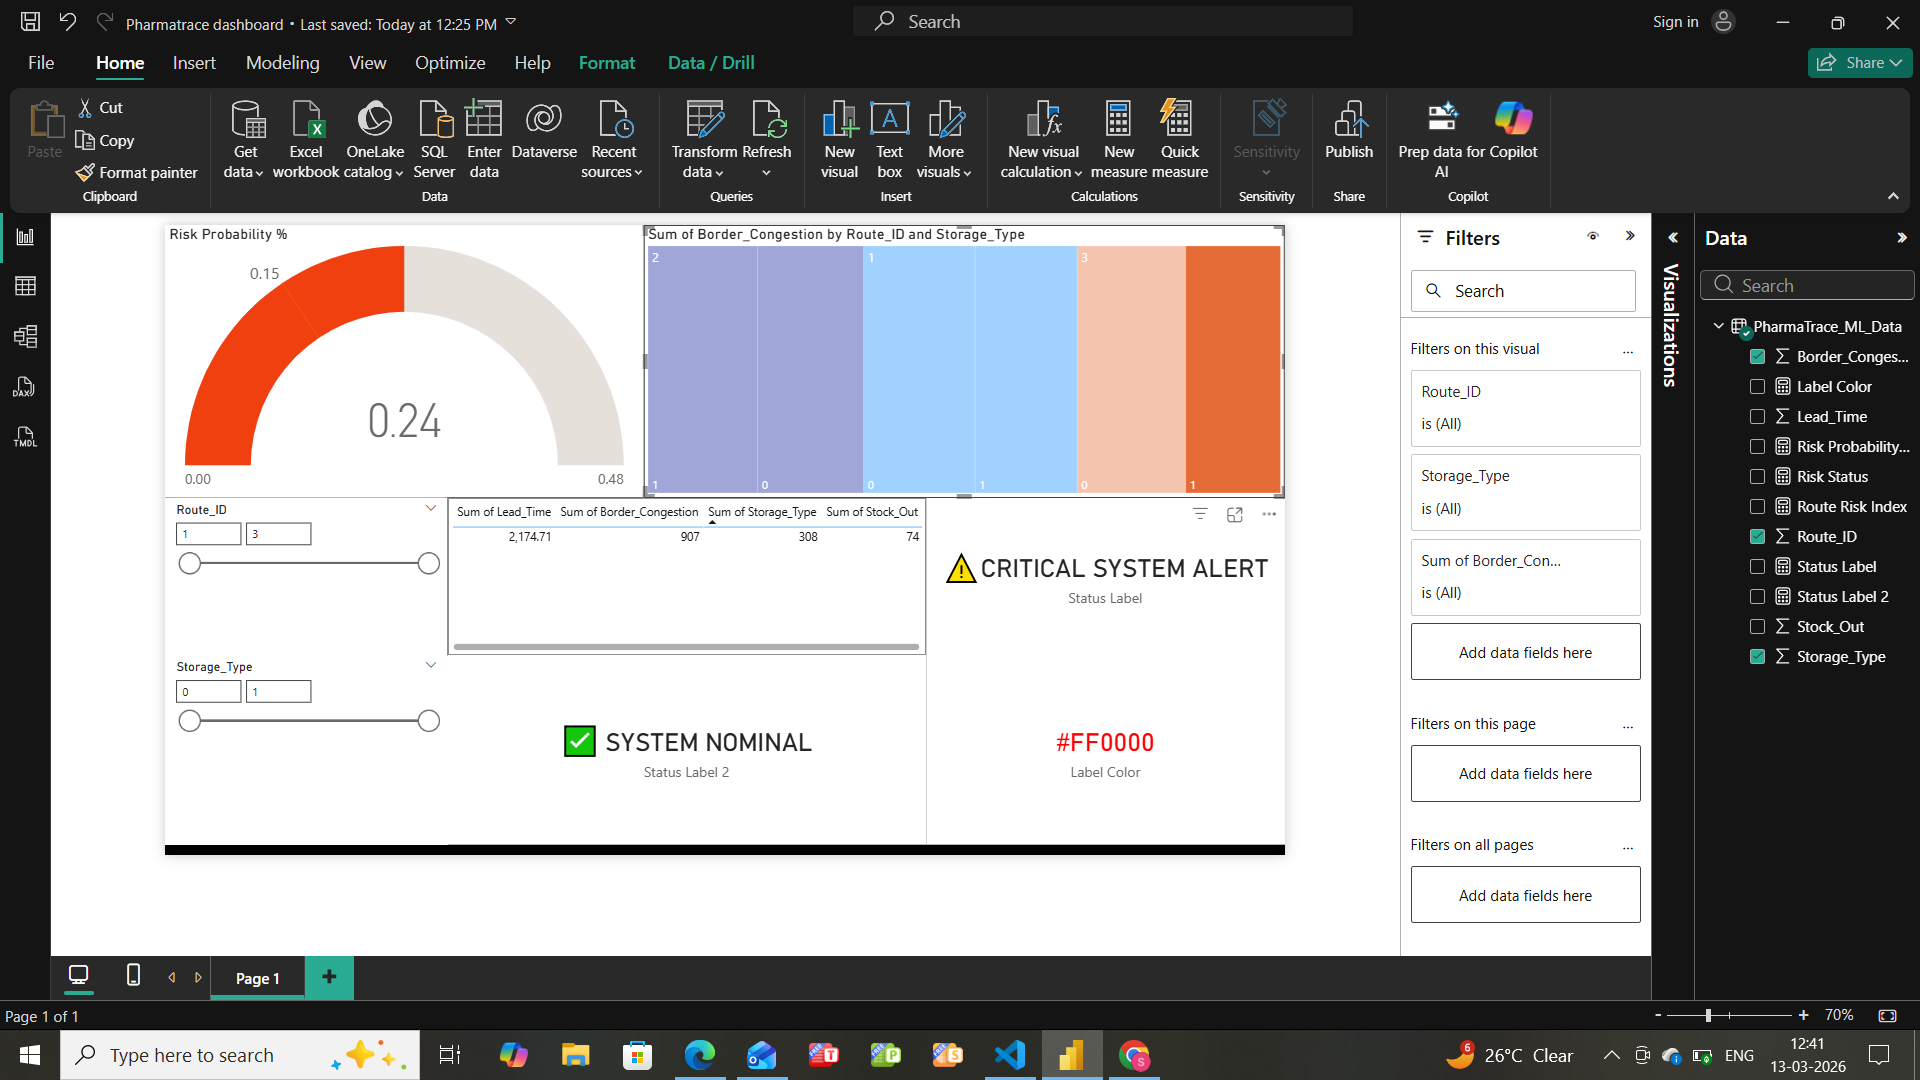

The page's visual inventory and layout, read from the dashboard file:
{"tool":"powerbi","page":{"name":"Page 1","canvas":[1280,720],"ordinal":0},"visuals":[{"type":"gauge","fields":{"Y":["PharmaTrace_ML_Data.Risk Probability %"]},"box":[0,0,547.5,311.5],"z":0},{"type":"treemap","fields":{"Group":["PharmaTrace_ML_Data.Route_ID"],"Values":["Sum(PharmaTrace_ML_Data.Border_Congestion)"],"Details":["PharmaTrace_ML_Data.Storage_Type"]},"box":[547.1,0,732.9,311.4],"z":1000},{"type":"slicer","fields":{"Values":["PharmaTrace_ML_Data.Route_ID"]},"box":[0,311.4,322.9,180],"z":2000},{"type":"slicer","fields":{"Values":["PharmaTrace_ML_Data.Storage_Type"]},"box":[0,491.4,322.9,217.1],"z":3000},{"type":"tableEx","fields":{"Values":["Sum(PharmaTrace_ML_Data.Lead_Time)","Sum(PharmaTrace_ML_Data.Border_Congestion)","Sum(PharmaTrace_ML_Data.Storage_Type)","Sum(PharmaTrace_ML_Data.Stock_Out)"]},"box":[322.9,311.4,547.1,180],"z":4000},{"type":"card","fields":{"Values":["PharmaTrace_ML_Data.Status Label 2"]},"box":[322.9,491.4,547.1,217.1],"z":5000},{"type":"card","fields":{"Values":["PharmaTrace_ML_Data.Status Label"]},"box":[870,311,410,180],"z":5001},{"type":"card","fields":{"Values":["PharmaTrace_ML_Data.Label Color"]},"box":[870,491,410,217],"z":5002}]}

Visuals, with their boxes on the page's 1280x720 design canvas (x1, y1, x2, y2). These are canvas units, not pixel positions in the 1920x1080 screenshot, which may show the page scaled, cropped or inside an application window:
gauge - PharmaTrace_ML_Data.Risk Probability %: <box>0,0,548,312</box>
treemap - PharmaTrace_ML_Data.Route_ID x Sum(PharmaTrace_ML_Data.Border_Congestion): <box>547,0,1280,311</box>
slicer - PharmaTrace_ML_Data.Route_ID: <box>0,311,323,491</box>
slicer - PharmaTrace_ML_Data.Storage_Type: <box>0,491,323,708</box>
tableEx - Sum(PharmaTrace_ML_Data.Lead_Time) x Sum(PharmaTrace_ML_Data.Border_Congestion): <box>323,311,870,491</box>
card - PharmaTrace_ML_Data.Status Label 2: <box>323,491,870,708</box>
card - PharmaTrace_ML_Data.Status Label: <box>870,311,1280,491</box>
card - PharmaTrace_ML_Data.Label Color: <box>870,491,1280,708</box>
